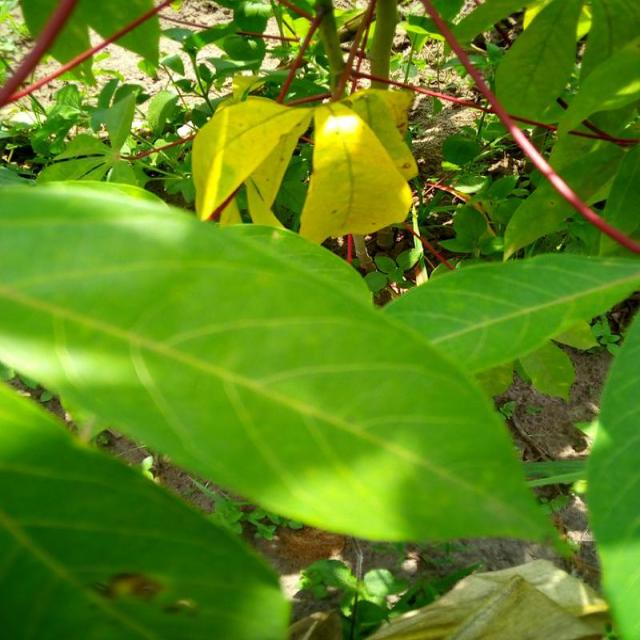cassava leaf: (0, 175, 575, 556), (0, 379, 292, 638), (298, 97, 414, 244), (190, 93, 314, 224)
